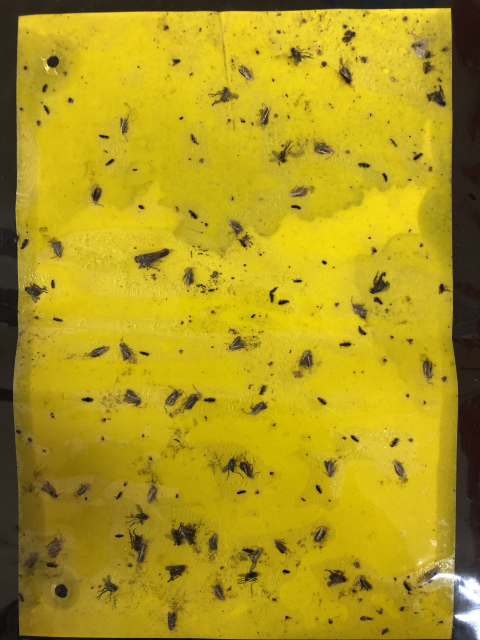DBM: (311, 137, 337, 162), (180, 385, 202, 413), (163, 384, 183, 414), (237, 457, 261, 482), (45, 532, 66, 560), (240, 399, 269, 418), (178, 522, 198, 549), (348, 296, 369, 321), (255, 102, 273, 131), (420, 355, 437, 385), (335, 63, 356, 87), (121, 387, 143, 409), (322, 456, 341, 481), (204, 530, 222, 555), (235, 63, 255, 85), (352, 574, 375, 593), (297, 347, 315, 371), (179, 265, 197, 289), (311, 524, 331, 545), (135, 540, 150, 568), (143, 483, 162, 505), (390, 458, 409, 480), (223, 335, 246, 353), (86, 344, 110, 361), (208, 582, 228, 602), (46, 239, 64, 261), (116, 340, 134, 362), (88, 185, 105, 208), (118, 112, 130, 144), (227, 218, 245, 239), (288, 182, 310, 199), (248, 544, 265, 565), (164, 609, 179, 632), (271, 537, 290, 555), (24, 552, 37, 572), (76, 482, 92, 497)
